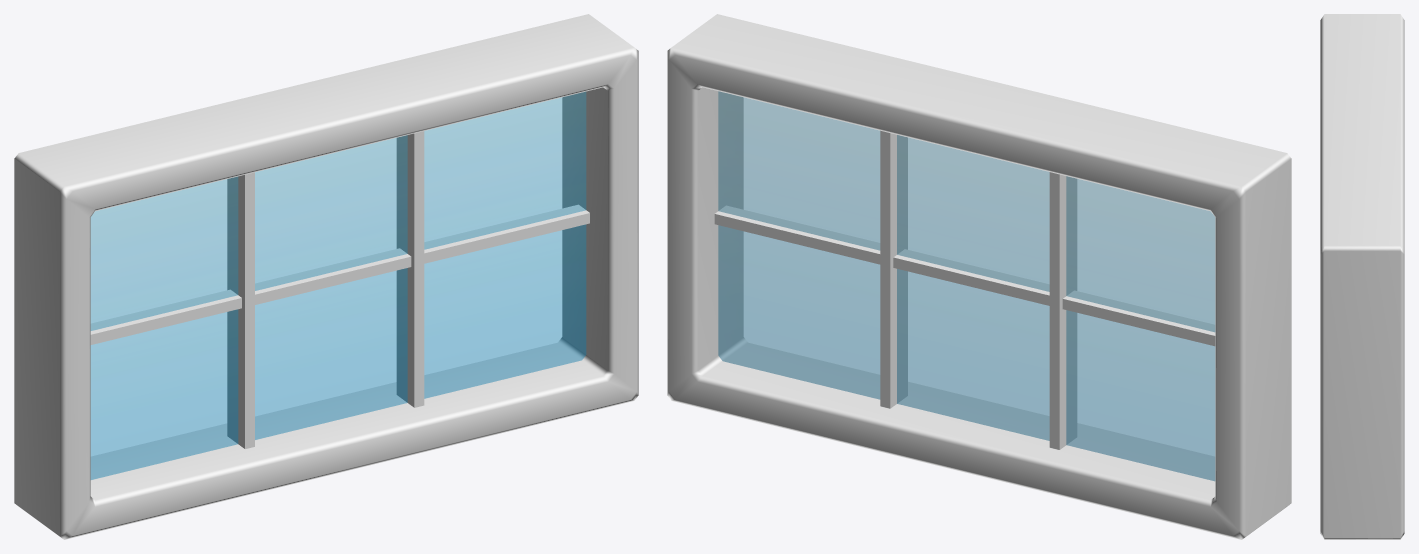
Rendered from Window_White_06.glb.
3 renders of one model, left to right at view 1: azimuth 30°, elevation 25°; view 2: azimuth 150°, elevation 25°; view 3: azimuth 270°, elevation 25°, orthographic. The views are drawn at different scales.
Visible parts, largest first — view 1: Window_White_06; view 2: Window_White_06; view 3: Window_White_06.
Part boxes in pixels (x1,y1,x2,y2): Window_White_06: [14, 14, 638, 539]; Window_White_06: [667, 14, 1291, 539]; Window_White_06: [1320, 14, 1404, 539].
Size of the model in its own units: 2.64 by 1.54 by 0.4.
2 materials, 2 textured.
